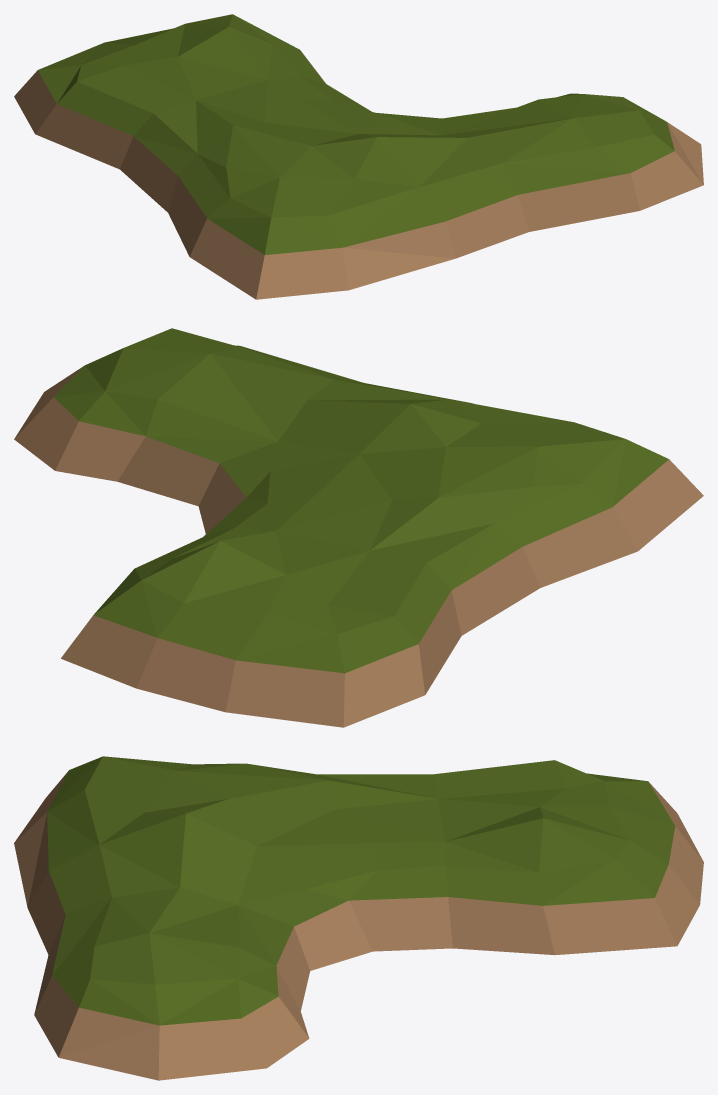
Rendered from TB_Env_Mound_Corner_A.FBX.
The picture shows the model from 3 angles, top to bottom: view 1: azimuth 30°, elevation 25°; view 2: azimuth 150°, elevation 25°; view 3: azimuth 270°, elevation 25°; orthographic projection. The views are drawn at different scales.
Visible parts, largest first — view 1: TB_Env_Mound_Corner_A; view 2: TB_Env_Mound_Corner_A; view 3: TB_Env_Mound_Corner_A.
Part boxes in pixels (x1,y1,x2,y2): TB_Env_Mound_Corner_A: [14, 14, 703, 299]; TB_Env_Mound_Corner_A: [14, 328, 703, 727]; TB_Env_Mound_Corner_A: [14, 756, 703, 1080].
Bounding box in the file's own units: 24.99 × 3.58 × 25.45.
